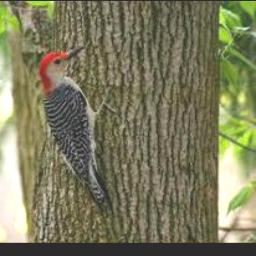Woodpecker: (39, 44, 117, 206)
